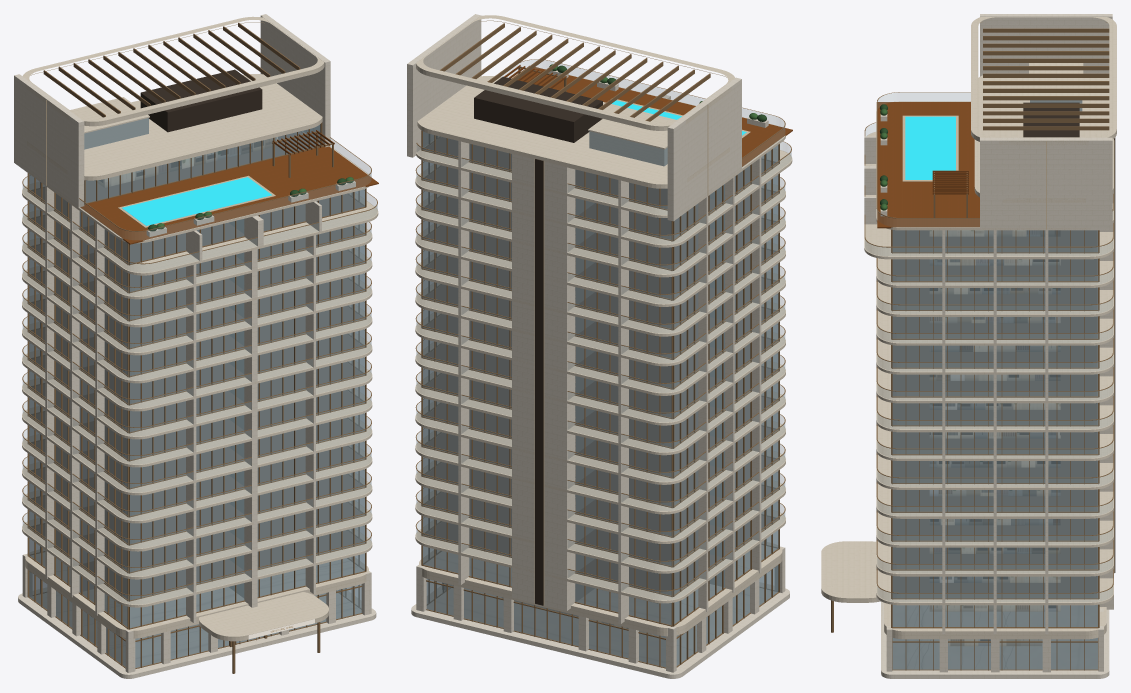
The model's file is skyline-one-tower.glb.
3 views of the same model, side by side, from view 1: azimuth 30°, elevation 25°; view 2: azimuth 150°, elevation 25°; view 3: azimuth 270°, elevation 25° (orthographic). The views are drawn at different scales.
Visible parts, largest first — view 1: sk-MeshStandardMaterial (×10), sk-MeshPhysicalMaterial (×3); view 2: sk-MeshStandardMaterial (×8), sk-MeshPhysicalMaterial (×2), sk-MeshBasicMaterial; view 3: sk-MeshStandardMaterial (×15), sk-MeshPhysicalMaterial (×3), sk-MeshBasicMaterial.
Boxes of the visible parts, x1,y1,x2,y2 form: sk-MeshStandardMaterial (×10): [14, 14, 378, 678]; sk-MeshPhysicalMaterial (×3): [22, 118, 377, 667]; sk-MeshStandardMaterial (×8): [407, 14, 792, 678]; sk-MeshPhysicalMaterial (×2): [416, 60, 791, 667]; sk-MeshBasicMaterial: [479, 20, 726, 605]; sk-MeshStandardMaterial (×15): [821, 14, 1116, 678]; sk-MeshPhysicalMaterial (×3): [865, 93, 1112, 669]; sk-MeshBasicMaterial: [980, 22, 1114, 573].
Size of what is drawn, in the model's own units: 32.4 by 63.39 by 31.62.
32 materials, 21 textured.
